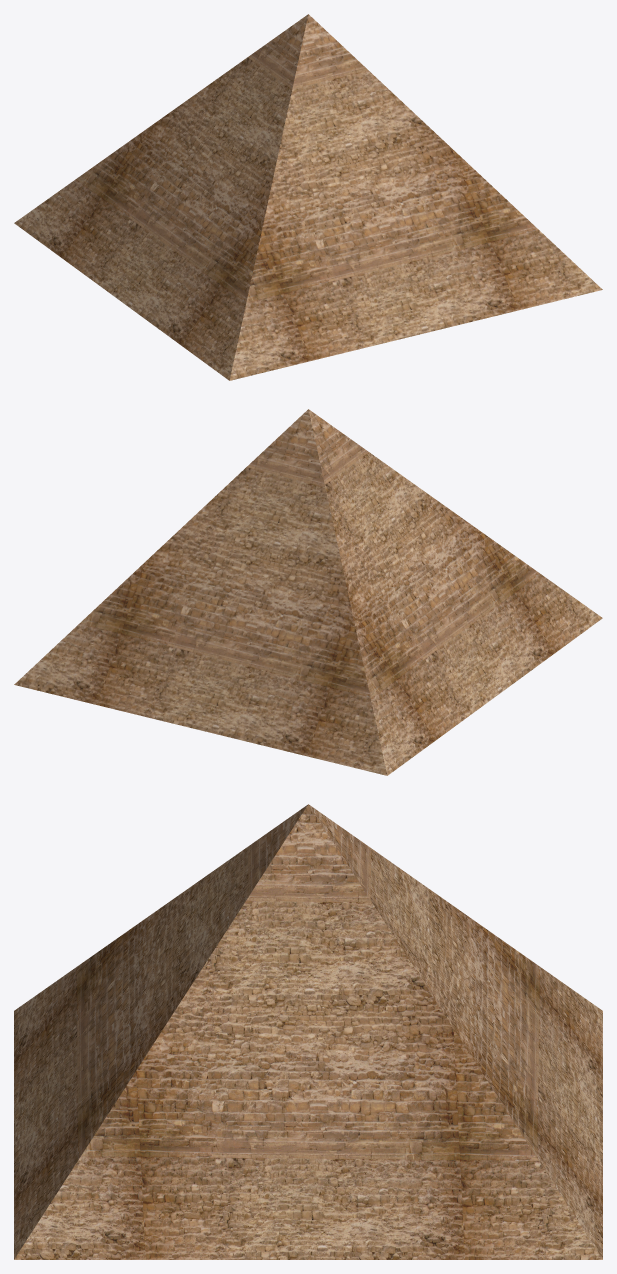
3 views of the same model, one above another, from view 1: azimuth 30°, elevation 25°; view 2: azimuth 150°, elevation 25°; view 3: azimuth 270°, elevation 25° (orthographic). The views are drawn at different scales.
Visible parts, largest first — view 1: pCube1; view 2: pCube1; view 3: pCube1.
Boxes of the visible parts, box(x1,y1,x2,y2) form: pCube1: box(14, 14, 602, 380); pCube1: box(14, 409, 602, 775); pCube1: box(14, 804, 602, 1259).
Bounding box in the file's own units: 12.34 × 7.66 × 12.34.
1 material, 1 textured.
